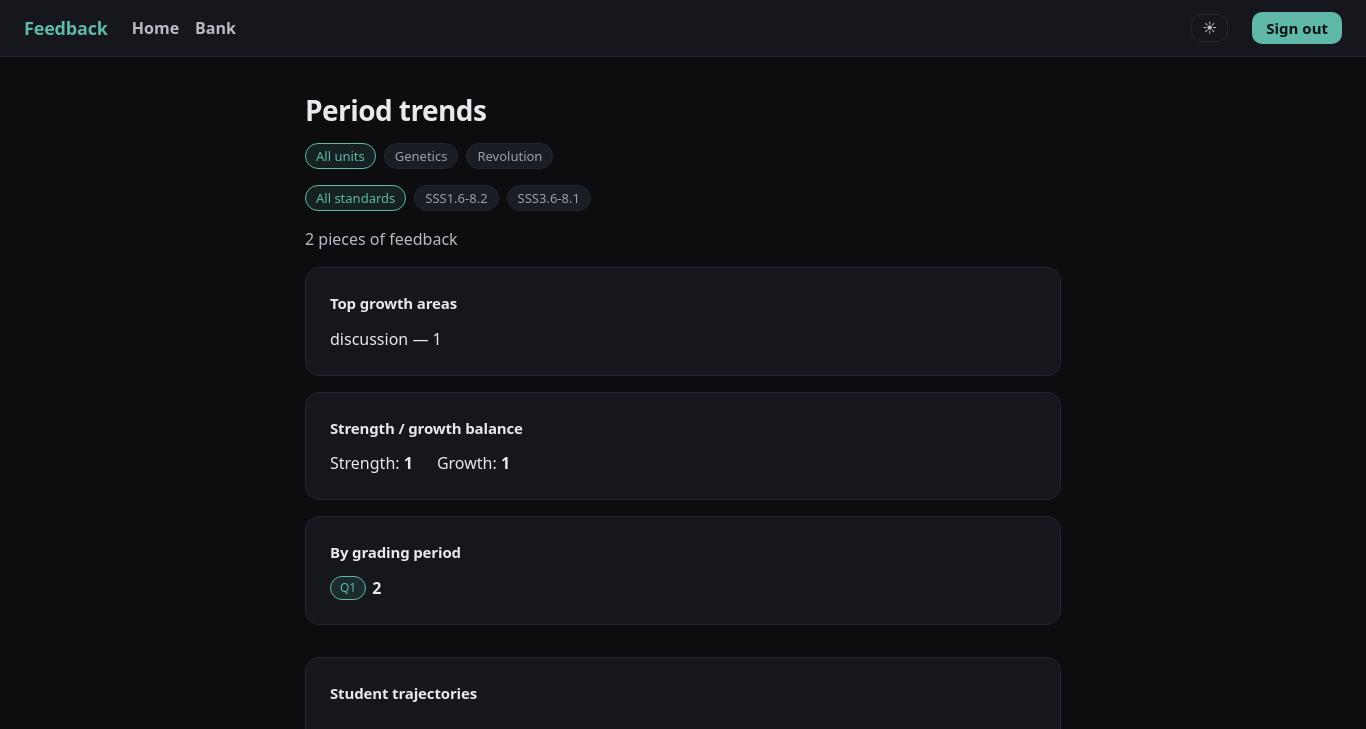
Test: TrendsPage › standard filter narrows BOTH the trends total and the trajectories
Expected: the text "2 pieces of feedback" is shown, top-left (305, 228), bottom-right (458, 250)
Pick the SSS1.6-8.2 chip → only h1 (s1) survives.
Click the button "SSS1.6-8.2" at (456, 198), box top-left (414, 185), bottom-right (499, 211)
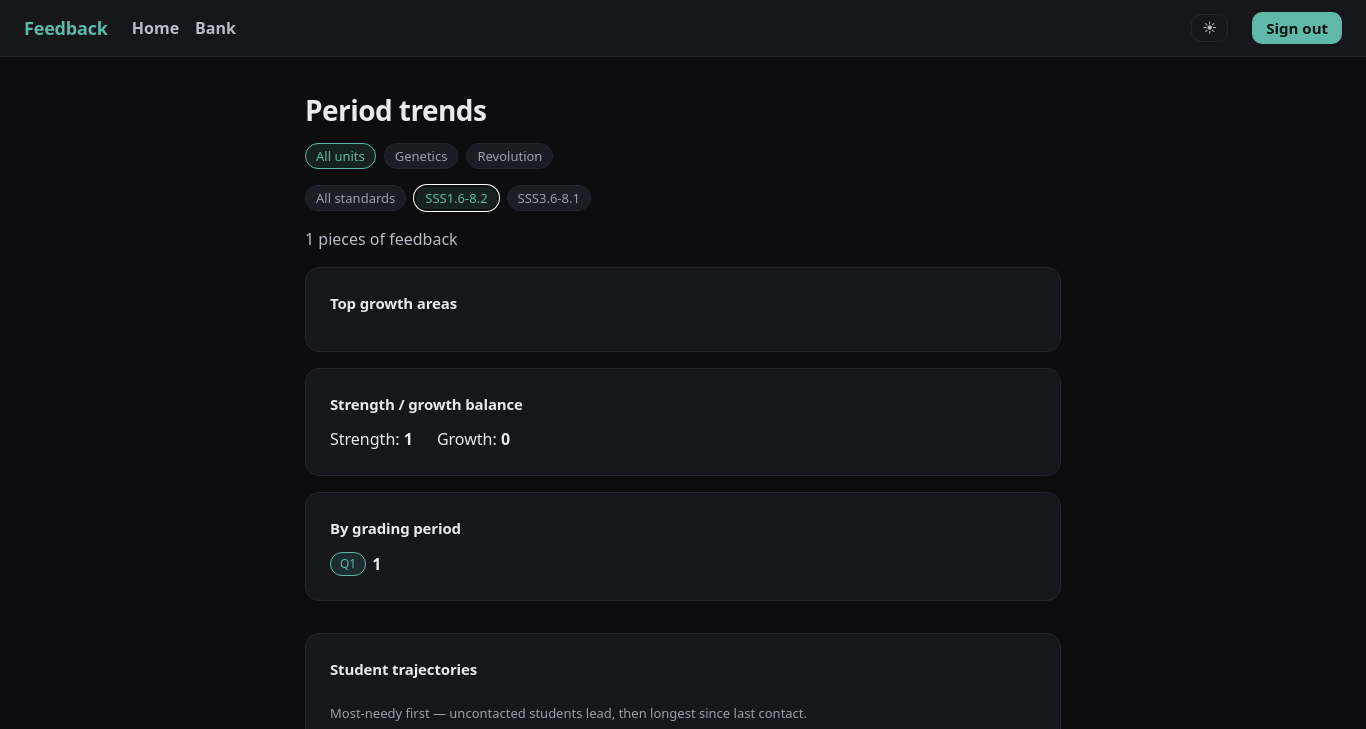
Now the text "1 pieces of feedback" is shown, box top-left (305, 228), bottom-right (458, 250)
